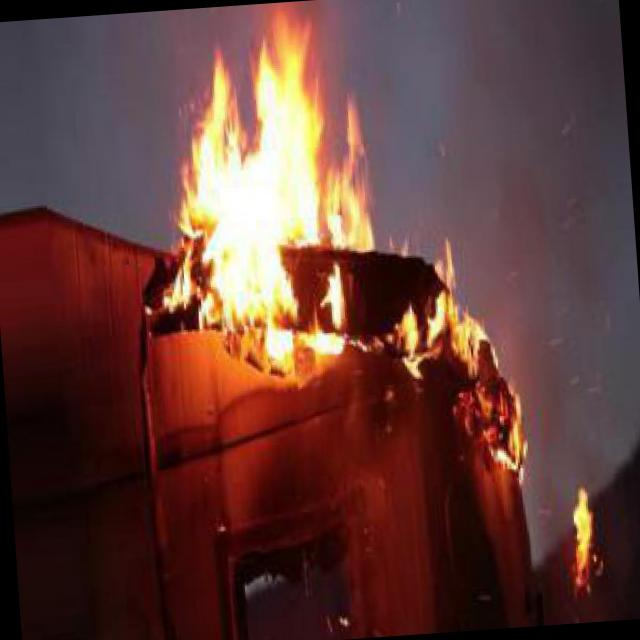fire: (142, 3, 384, 372), (386, 213, 489, 371), (559, 469, 607, 602), (486, 375, 536, 479)
